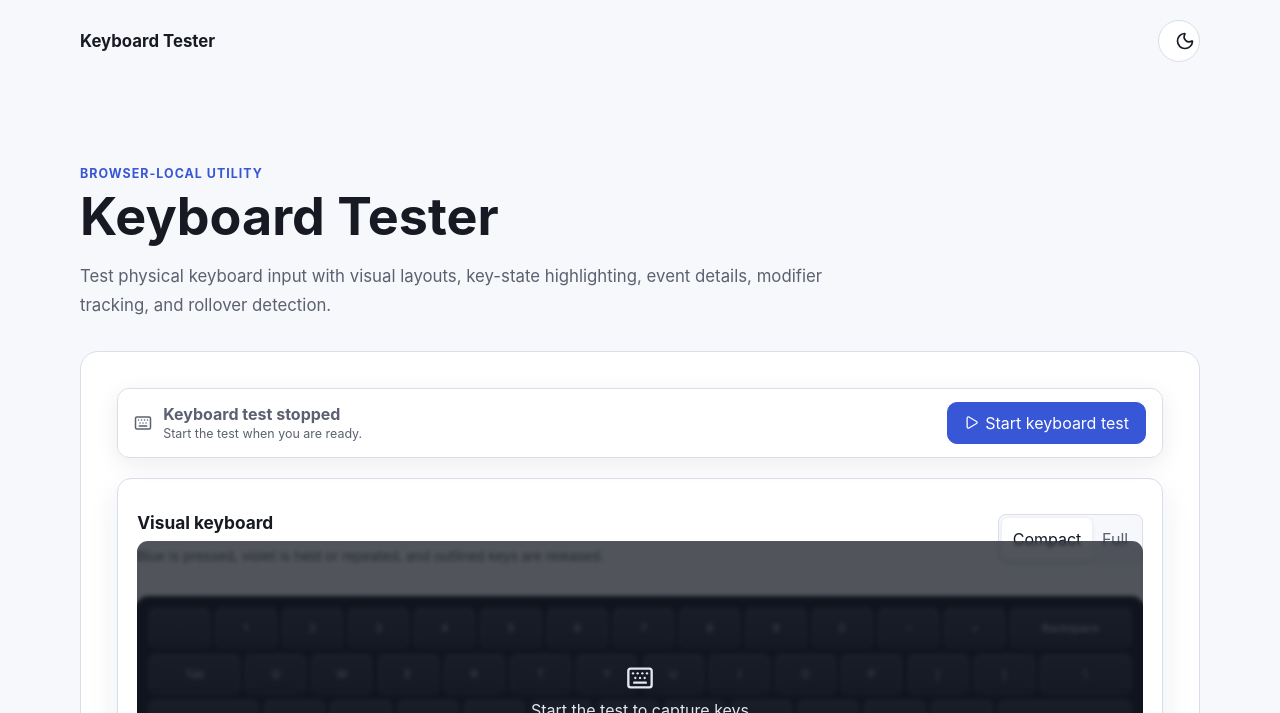
Scenario: Keyboard Tester › switches to the full layout and Escape stops capture
The width and height of the screenshot is (1280, 713).
Click the button "Full" at coordinates (1115, 539), box [1092,518,1139,560]
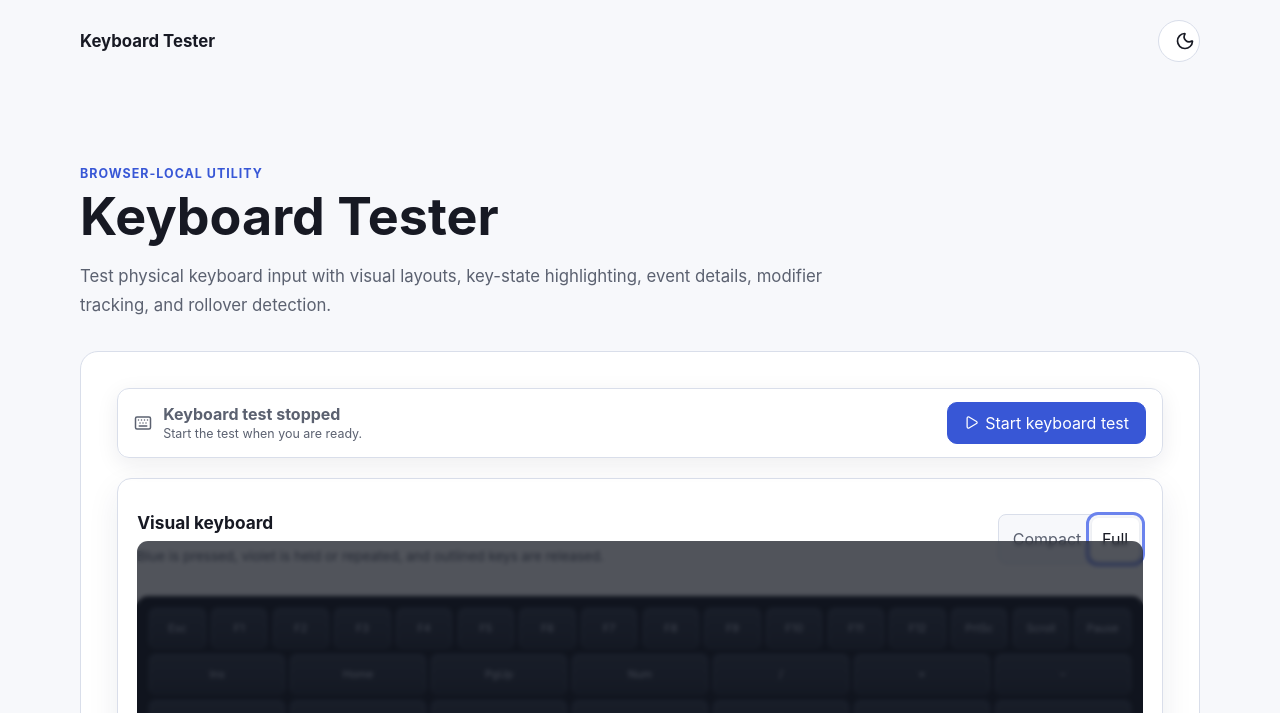
Click the button "Start keyboard test" at coordinates (1046, 423), box [947,402,1146,444]
(page scrolled)
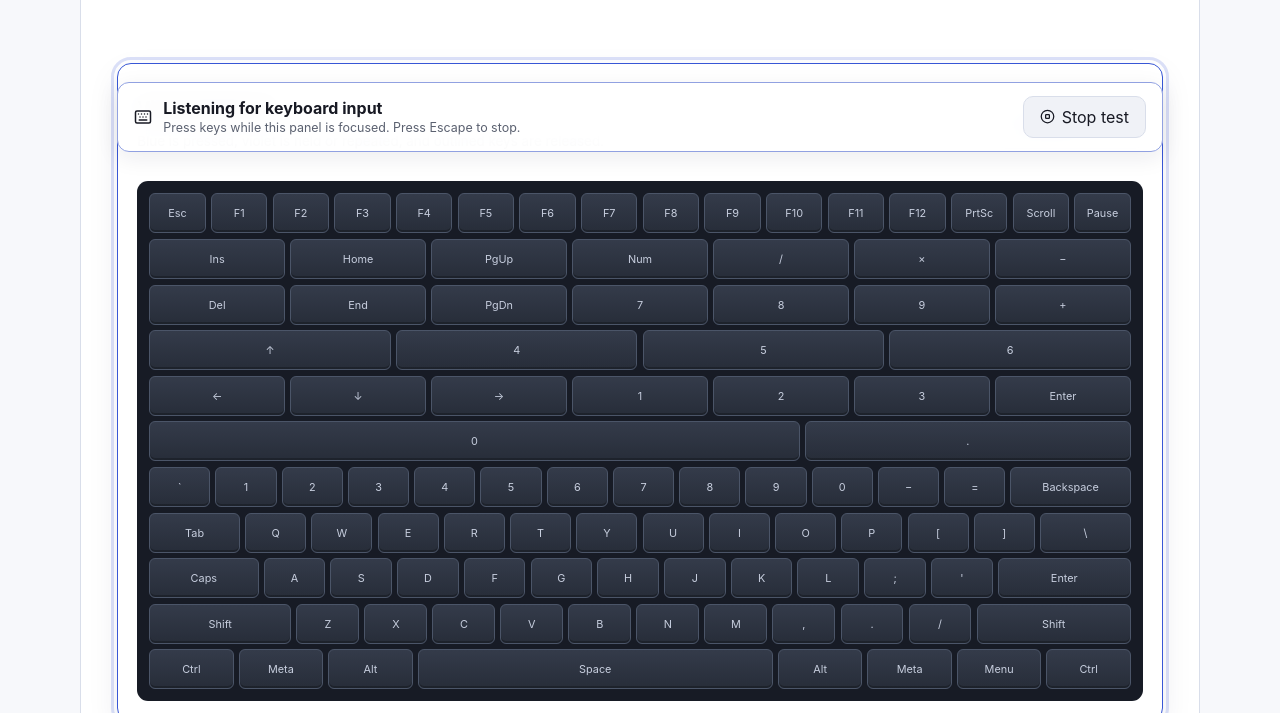
Press Escape
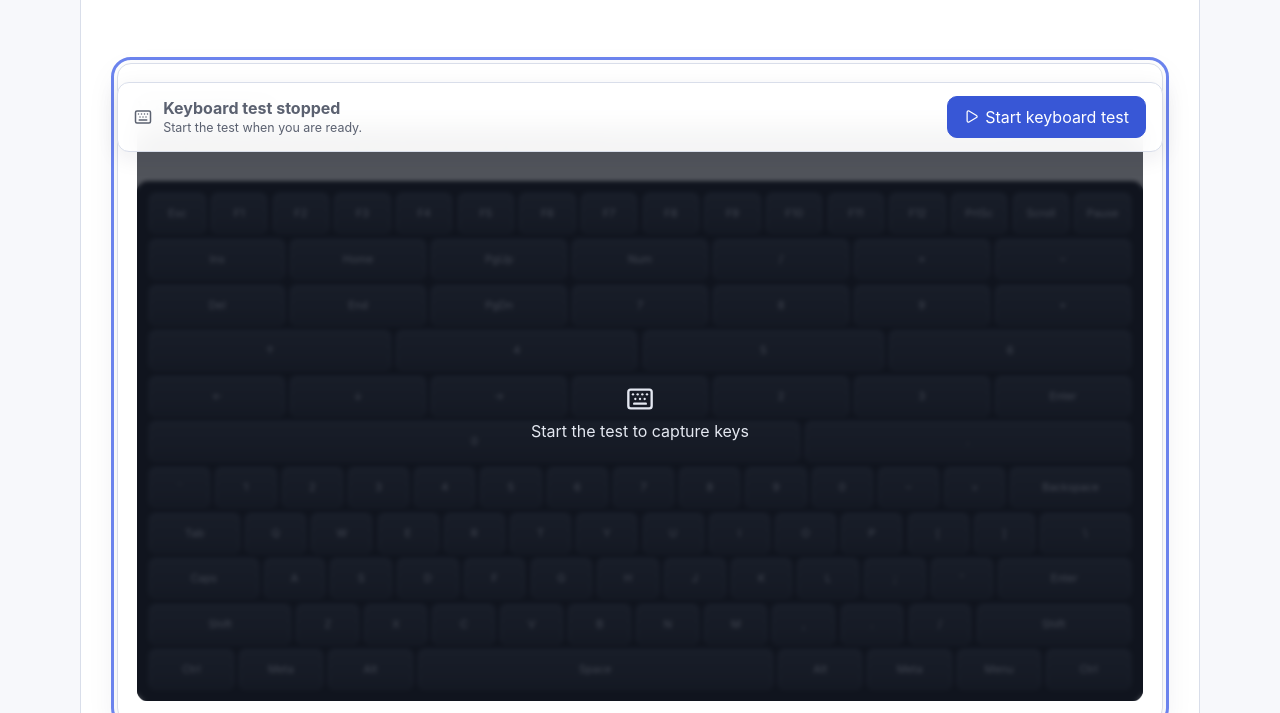
Now the text "Keyboard test stopped" is shown, box [163,98,362,118]
